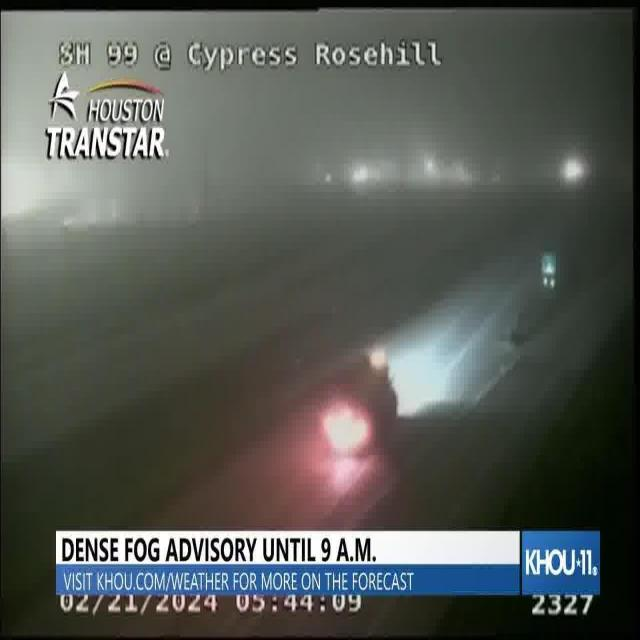Car: (316, 334, 411, 482)
